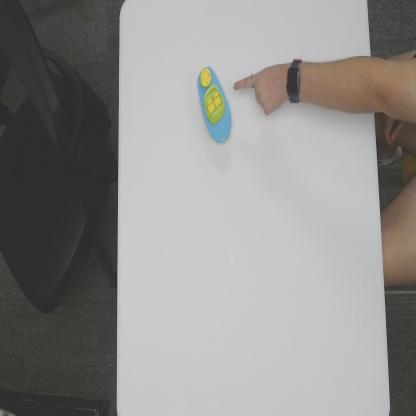Arm: (304, 55, 374, 117)
Boat: (196, 59, 233, 146)
Hand: (232, 65, 287, 118)
